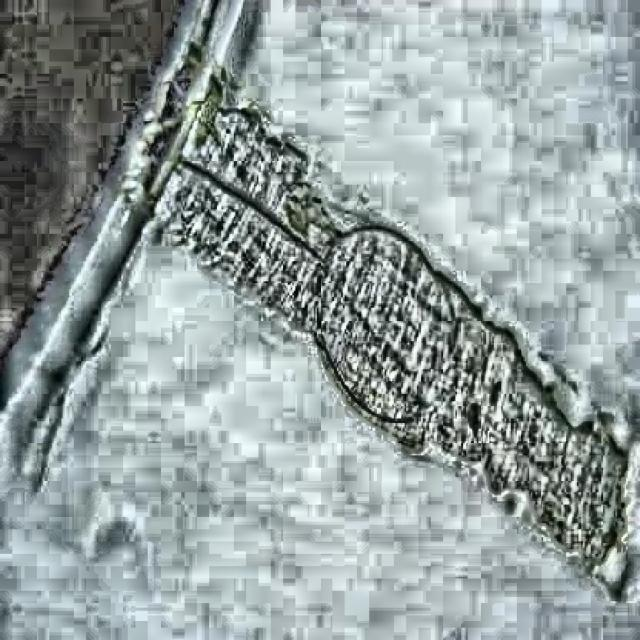crack: (187, 158, 258, 212), (258, 212, 324, 255)
